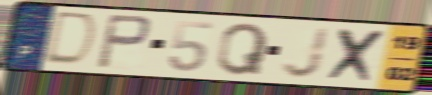5: (166, 18, 215, 73)
D: (40, 10, 100, 69)
J: (279, 25, 333, 80)
P: (94, 12, 154, 72)
Q: (215, 21, 271, 77)
X: (324, 26, 392, 85)
